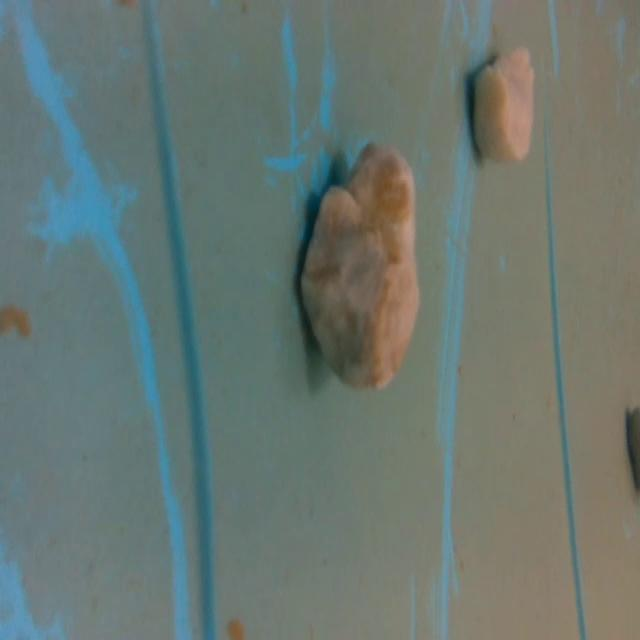rock: (293, 129, 433, 405), (465, 36, 538, 169)
